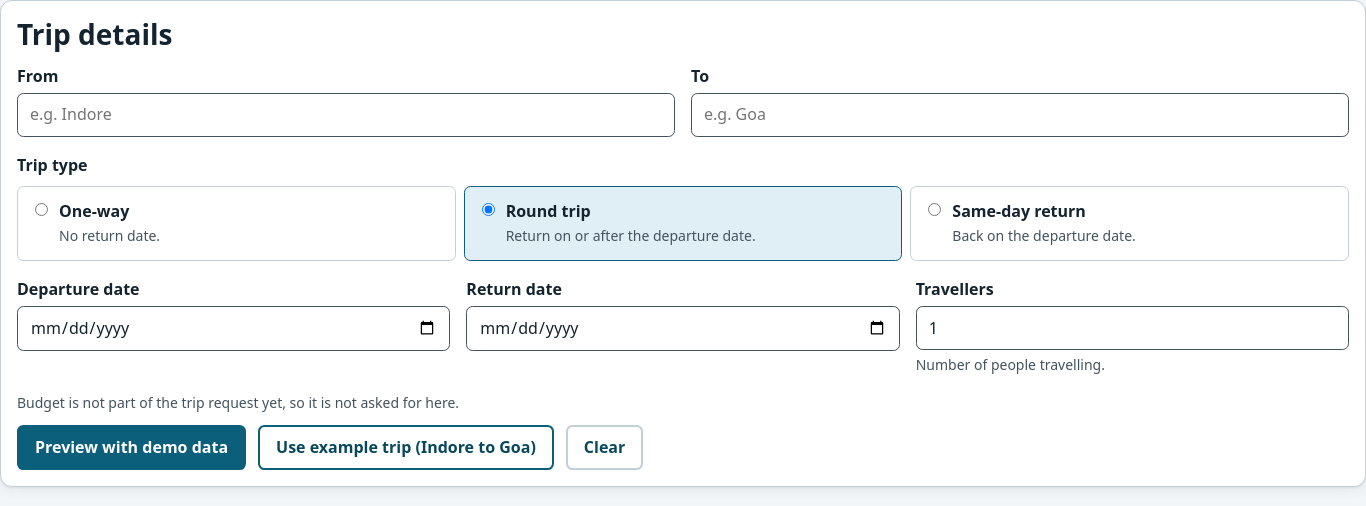
Test: TripForm submission › clear empties the form
Step 1. Click the button "Use example trip (Indore to Goa)" → x=406, y=448, box [258,425,554,470]
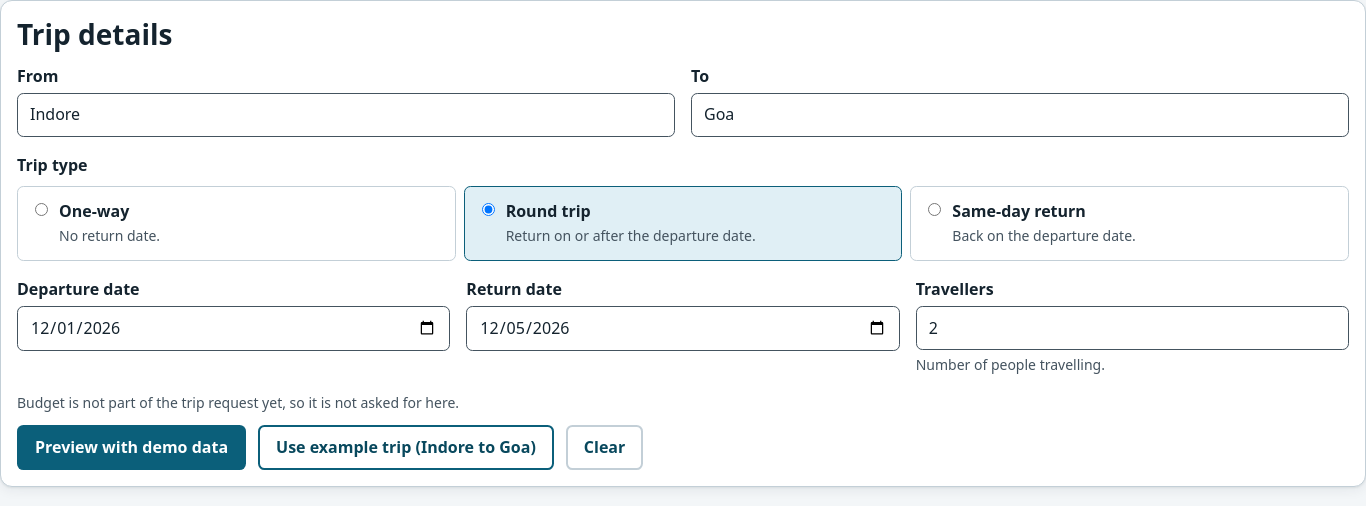
Expected: the field labelled "From" holds "Indore", [17,93,675,137]
Step 2. Click the button "Clear" → x=605, y=448, box [566,425,643,470]
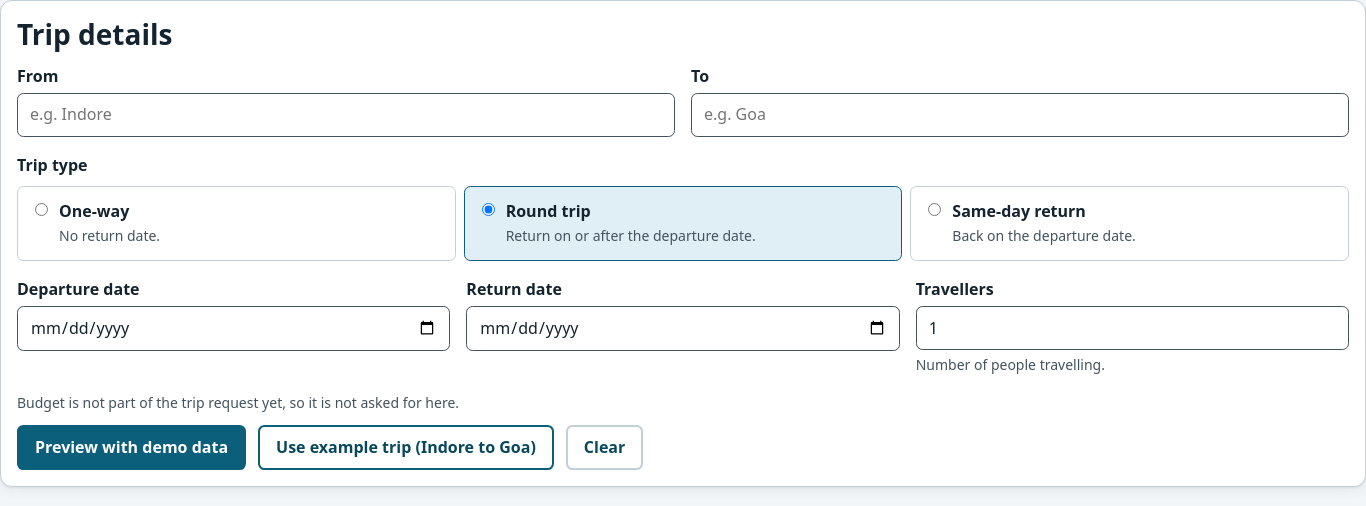
Expected: the field labelled "From" is empty, [17,93,675,137]
Expected: the number field labelled "Travellers" holds "1", [916,306,1349,350]
